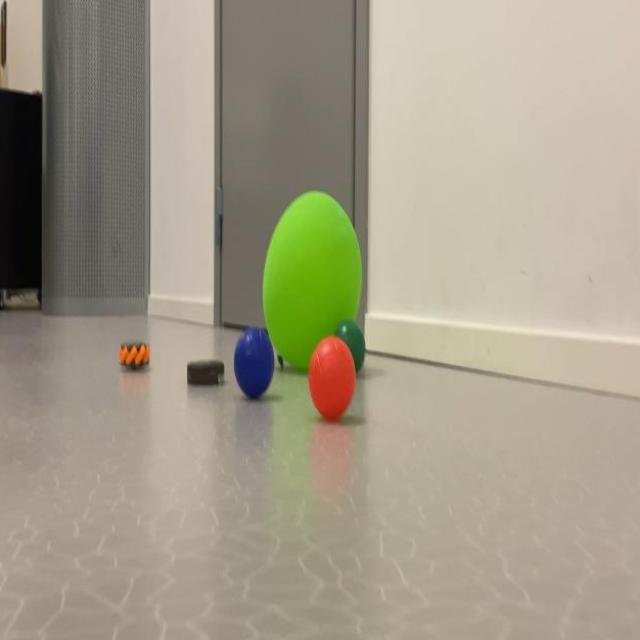blue ball: (235, 334, 276, 396)
green ball: (335, 327, 372, 340)
red ball: (308, 349, 356, 430)
